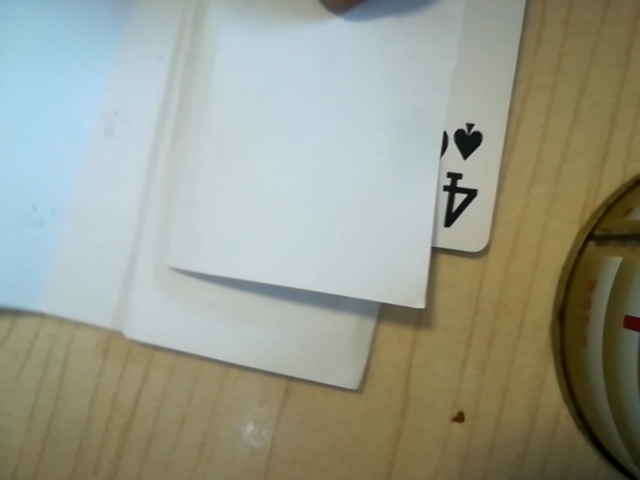ht 4: (425, 101, 501, 249)
